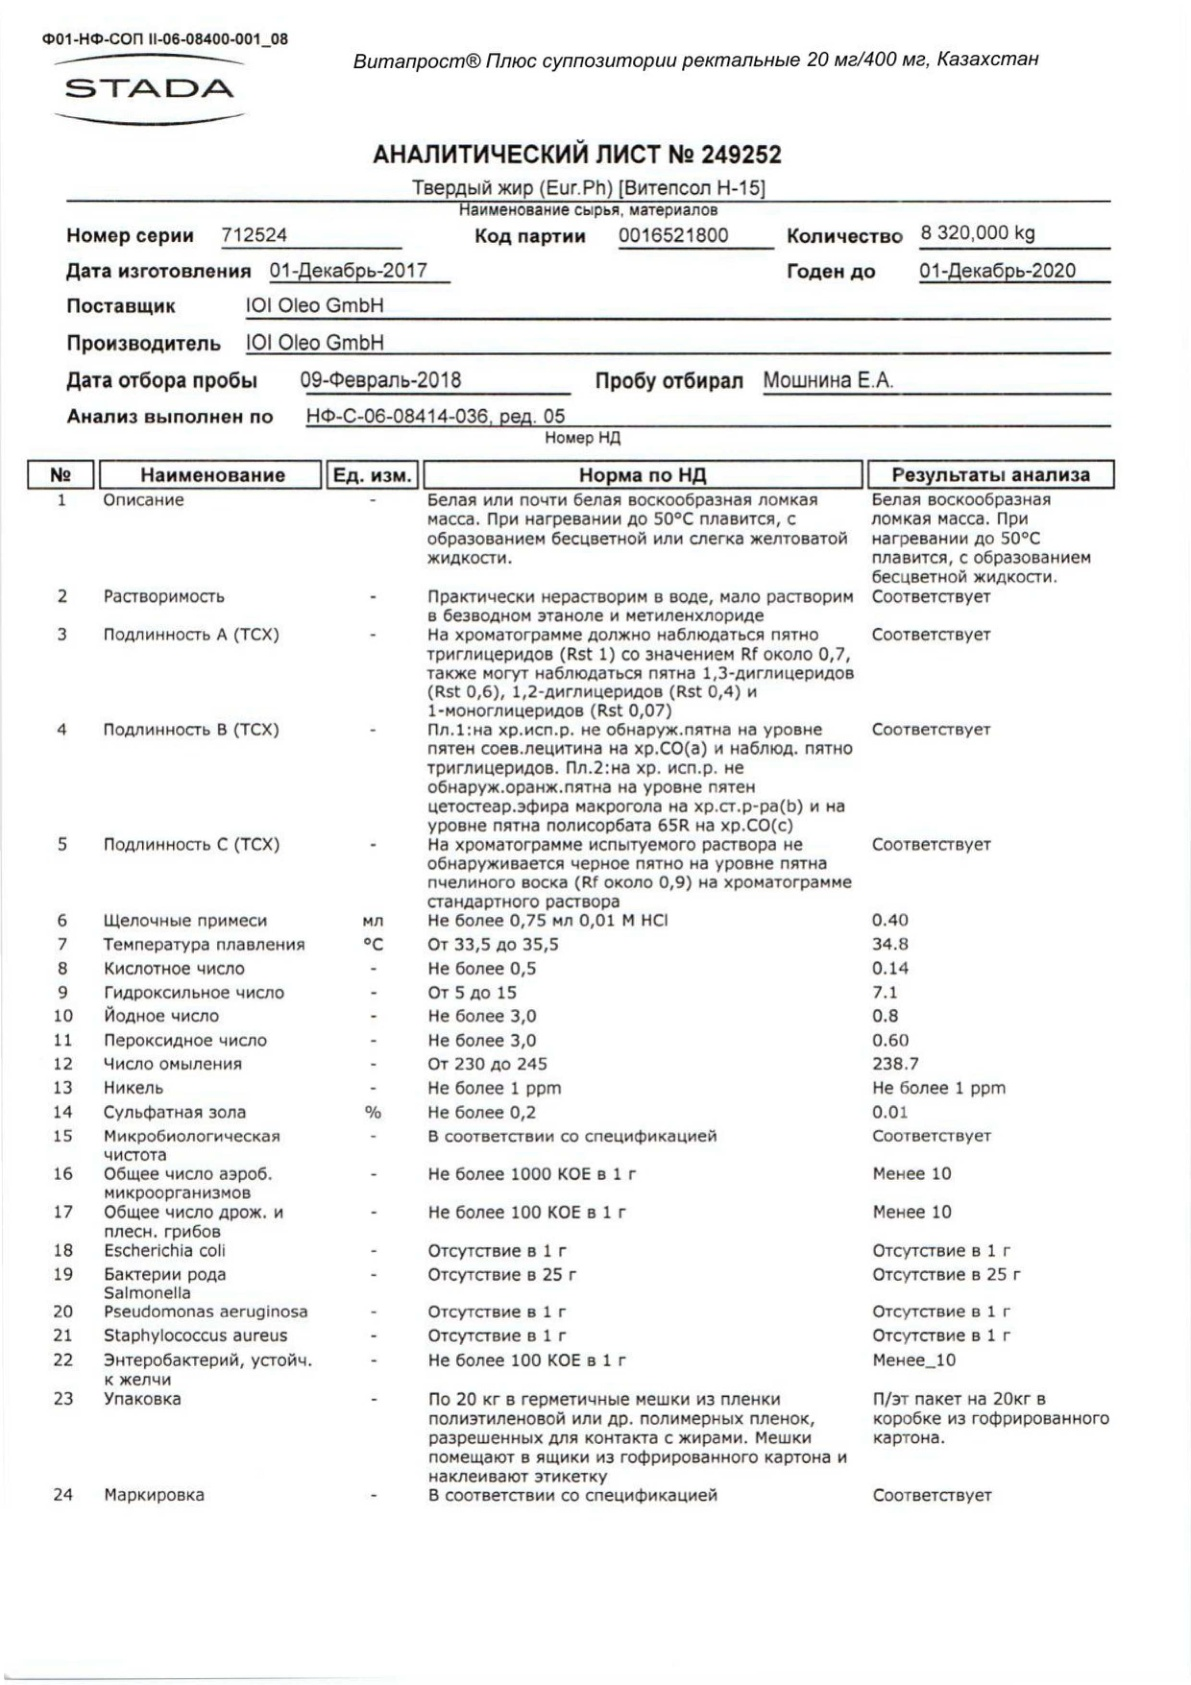partial_lined: (24, 456, 1118, 1515)
